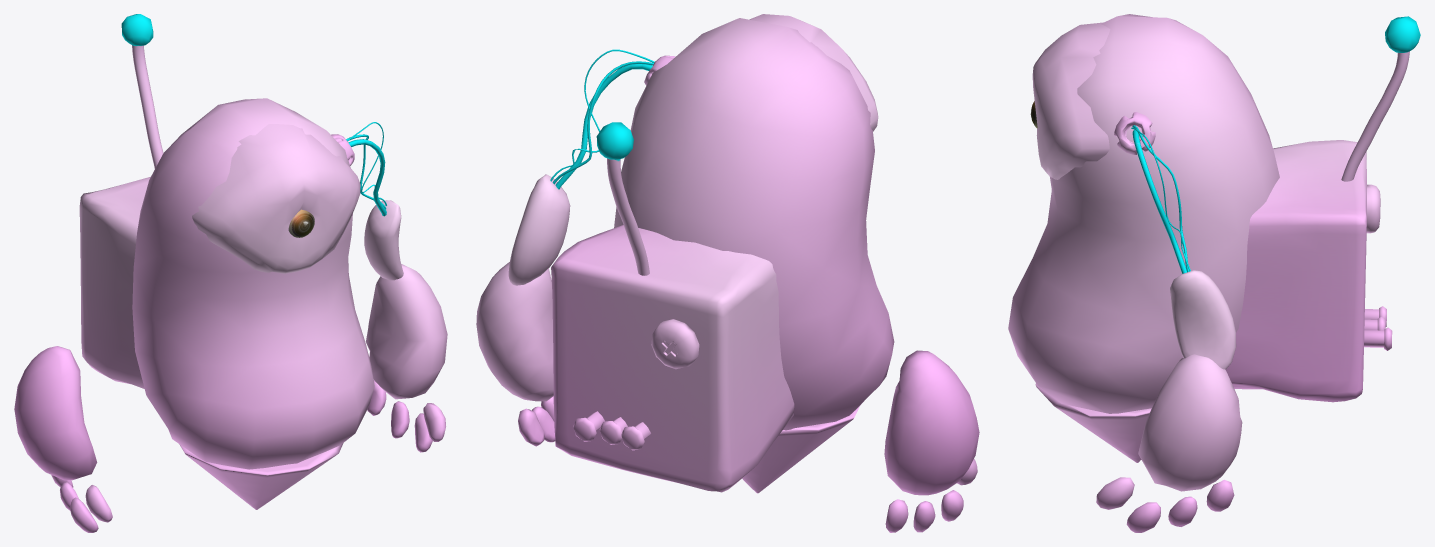
Rendered from kevin_nieuw.fbx.
The picture shows the model from 3 angles, left to right: view 1: azimuth 30°, elevation 25°; view 2: azimuth 150°, elevation 25°; view 3: azimuth 270°, elevation 25°; orthographic projection. The views are drawn at different scales.
Visible parts, largest first — view 1: kevin_body, left_arm, right_arm; view 2: kevin_body, left_arm, right_arm; view 3: kevin_body, left_arm.
Boxes of the visible parts, <box> form: kevin_body: <box>79,14,386,509</box>; left_arm: <box>364,200,447,452</box>; right_arm: <box>14,346,112,532</box>; kevin_body: <box>550,14,894,493</box>; left_arm: <box>476,174,570,446</box>; right_arm: <box>884,350,979,532</box>; kevin_body: <box>1008,14,1420,462</box>; left_arm: <box>1096,270,1242,532</box>.
Bounding box in the file's own units: 1.65 × 1.53 × 1.28.
Materials: 1 (1 with a texture image).
